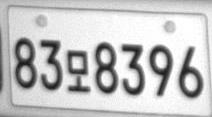3: (121, 42, 145, 95), (40, 39, 63, 90)
6: (177, 46, 203, 98)
8: (94, 41, 118, 93), (14, 36, 37, 89)
9: (148, 44, 173, 96)
모: (66, 50, 90, 93)
